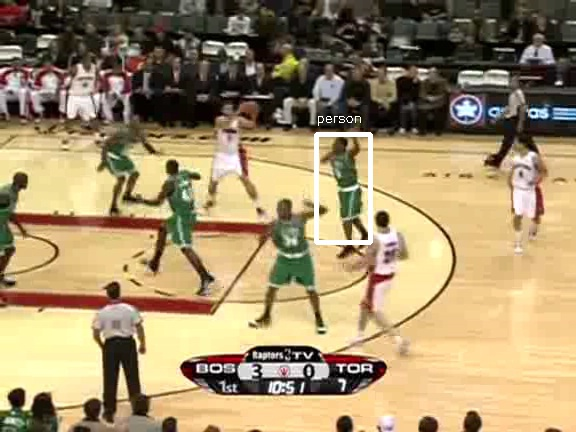person: (331, 145, 365, 226), (330, 145, 364, 226), (332, 145, 366, 226), (331, 144, 365, 225), (331, 146, 365, 227)
target_negative: (69, 40, 371, 254), (338, 77, 521, 316), (477, 300, 539, 412), (213, 40, 304, 88), (219, 340, 342, 341)
